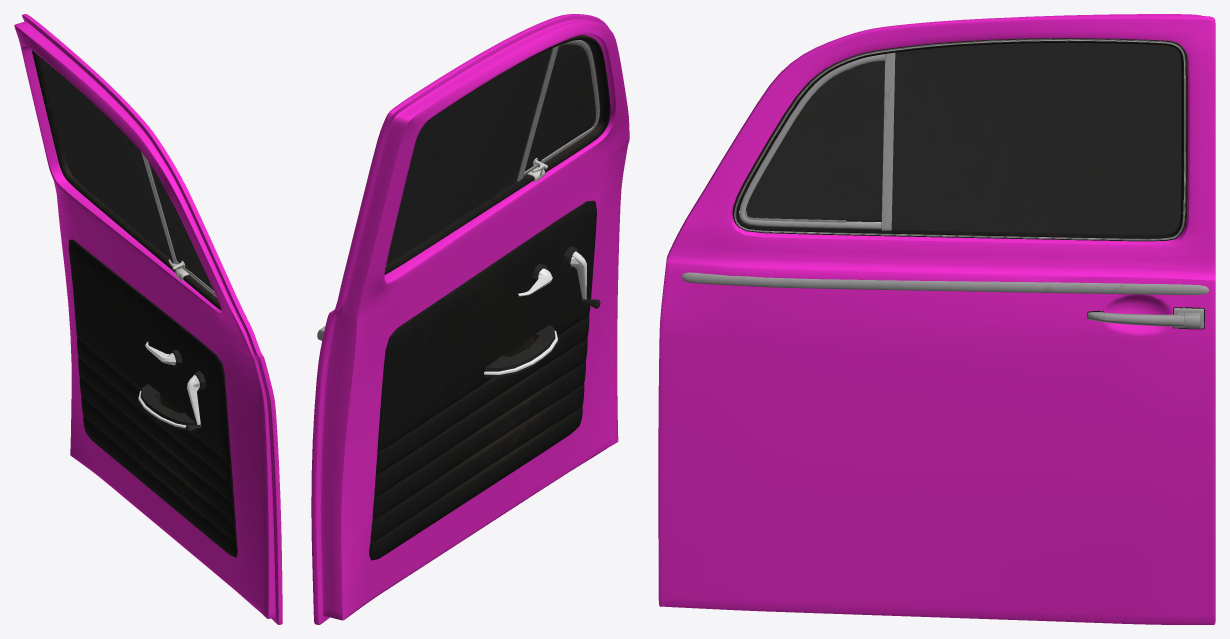
File: Left_Door.obj
3 renders of one model, left to right at view 1: azimuth 30°, elevation 25°; view 2: azimuth 150°, elevation 25°; view 3: azimuth 270°, elevation 25°, orthographic. The views are drawn at different scales.
Parts seen in each view (by area): view 1: Left_Door_1-Body, Left_Door_8-Interior_furniture, Left_Door_6-Glass_Windows, Left_Door_2-Extensoes, Left_Door_7-Interior_Acessories; view 2: Left_Door_1-Body, Left_Door_8-Interior_furniture, Left_Door_6-Glass_Windows, Left_Door_2-Extensoes, Left_Door_7-Interior_Acessories; view 3: Left_Door_1-Body, Left_Door_6-Glass_Windows, Left_Door_2-Extensoes.
Part boxes in pixels (x1=…): Left_Door_1-Body: x1=14, y1=14, x2=282, y2=624; Left_Door_8-Interior_furniture: x1=68, y1=239, x2=237, y2=557; Left_Door_6-Glass_Windows: x1=41, y1=58, x2=213, y2=290; Left_Door_2-Extensoes: x1=32, y1=50, x2=221, y2=310; Left_Door_7-Interior_Acessories: x1=138, y1=341, x2=205, y2=433; Left_Door_1-Body: x1=311, y1=14, x2=629, y2=624; Left_Door_8-Interior_furniture: x1=369, y1=200, x2=596, y2=560; Left_Door_6-Glass_Windows: x1=386, y1=44, x2=595, y2=264; Left_Door_2-Extensoes: x1=317, y1=35, x2=610, y2=340; Left_Door_7-Interior_Acessories: x1=484, y1=246, x2=600, y2=377; Left_Door_1-Body: x1=658, y1=14, x2=1215, y2=624; Left_Door_6-Glass_Windows: x1=746, y1=43, x2=1187, y2=234; Left_Door_2-Extensoes: x1=681, y1=38, x2=1209, y2=329.
Size of the model in its own units: 0.2152 by 1.03 by 0.9106.
5 materials, 5 textured.
